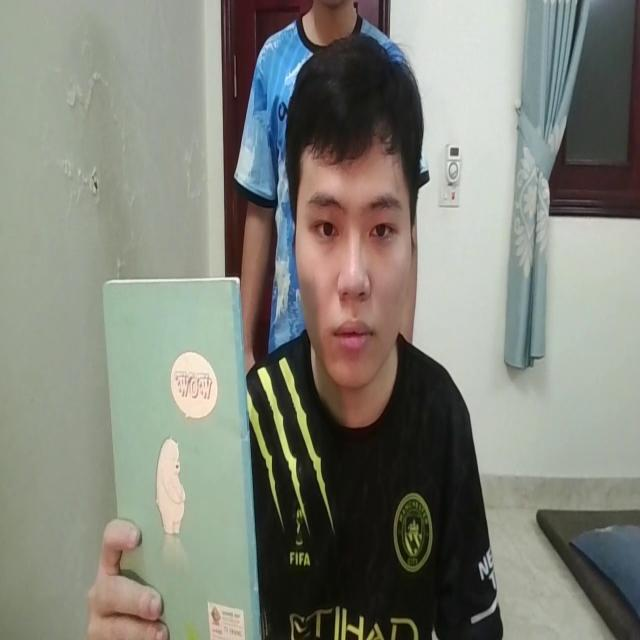book: (102, 259, 265, 640)
student: (243, 37, 499, 640)
